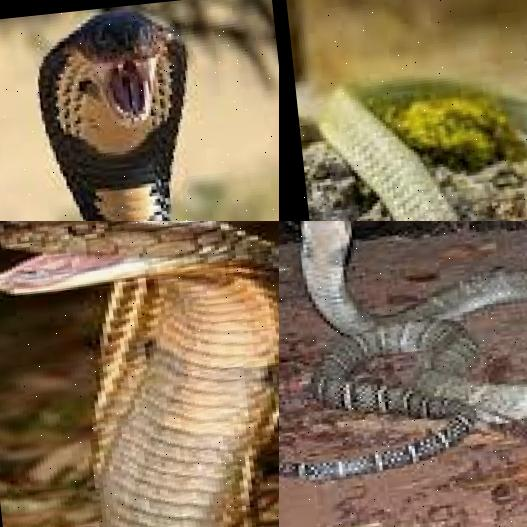snake: (0, 221, 279, 527), (279, 221, 527, 478), (0, 0, 279, 221), (285, 0, 527, 221)
